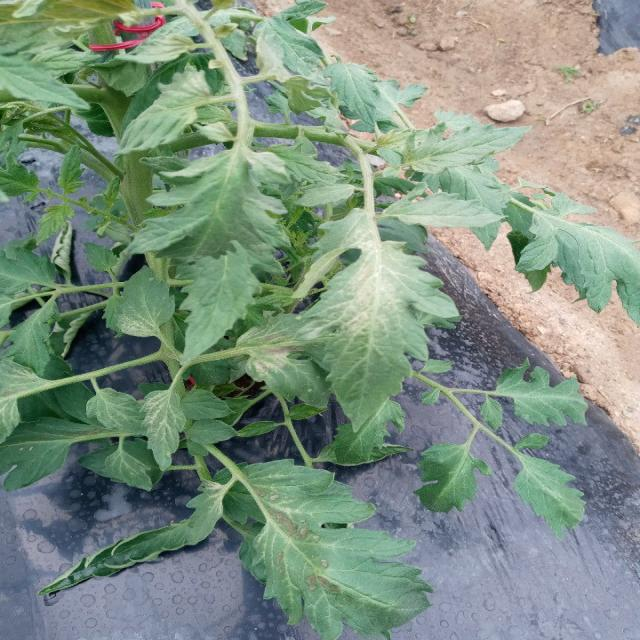Healthy Leaf: (126, 151, 290, 362), (251, 472, 430, 640), (302, 240, 458, 432), (42, 482, 225, 593), (516, 193, 640, 329), (116, 63, 210, 155), (238, 314, 332, 406), (294, 209, 375, 300), (0, 418, 89, 491), (495, 358, 588, 426), (406, 125, 532, 174), (513, 456, 588, 538), (323, 399, 406, 466), (413, 444, 493, 512), (254, 16, 328, 87), (382, 192, 505, 228), (116, 266, 174, 337), (141, 391, 188, 471), (323, 62, 378, 127), (0, 361, 37, 442), (86, 388, 141, 434), (115, 36, 195, 62), (106, 452, 155, 491), (33, 203, 72, 246)
